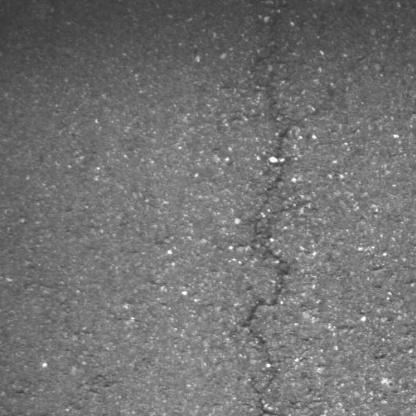Cracks: (239, 71, 342, 416)
